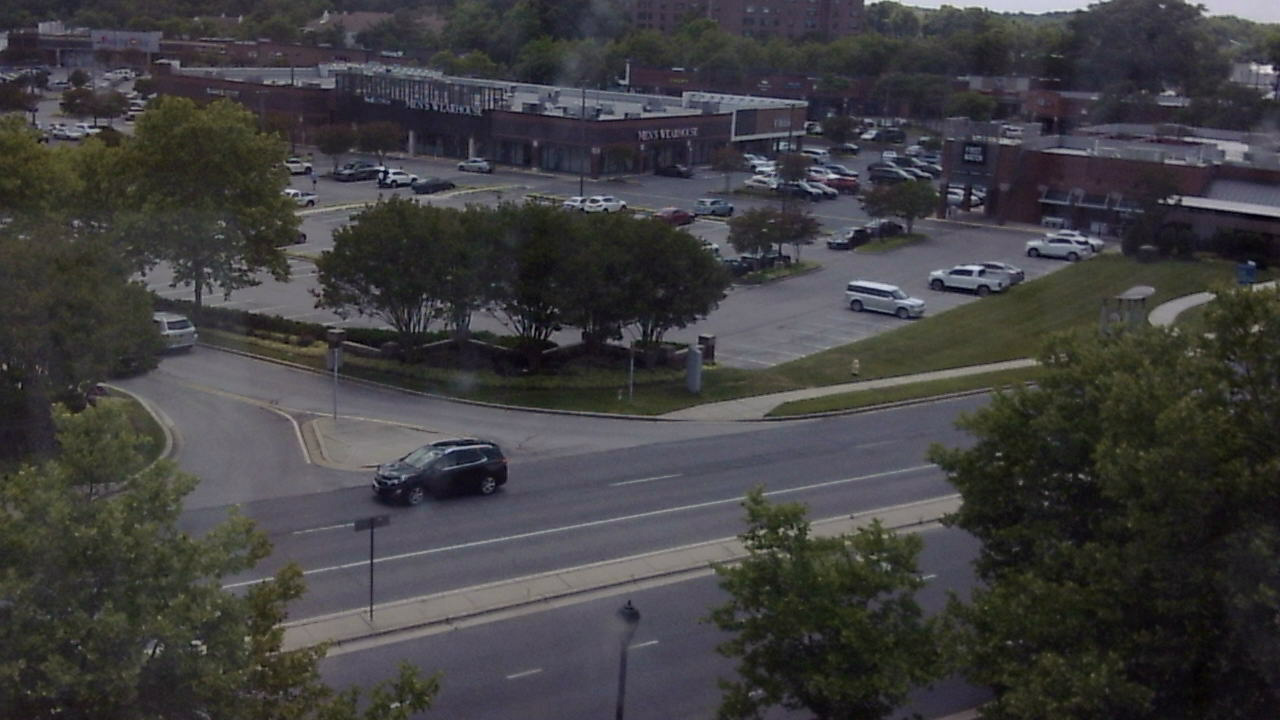Car: (351, 426, 533, 518)
